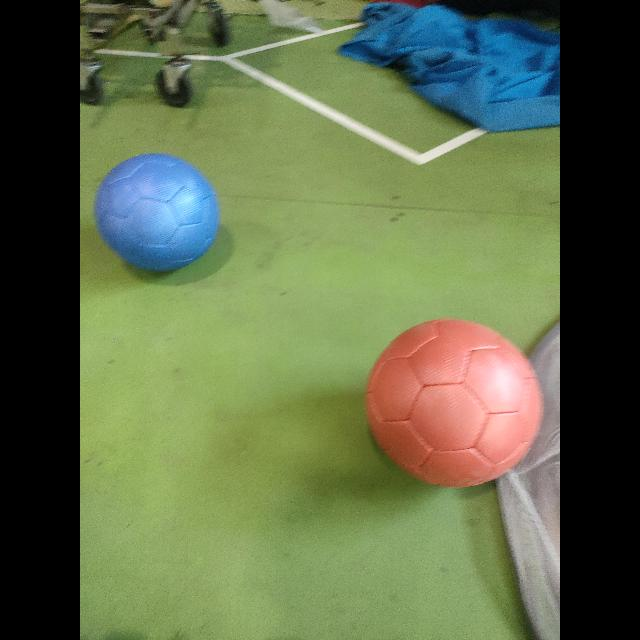B: (98, 154, 218, 272)
R: (366, 318, 542, 486)
